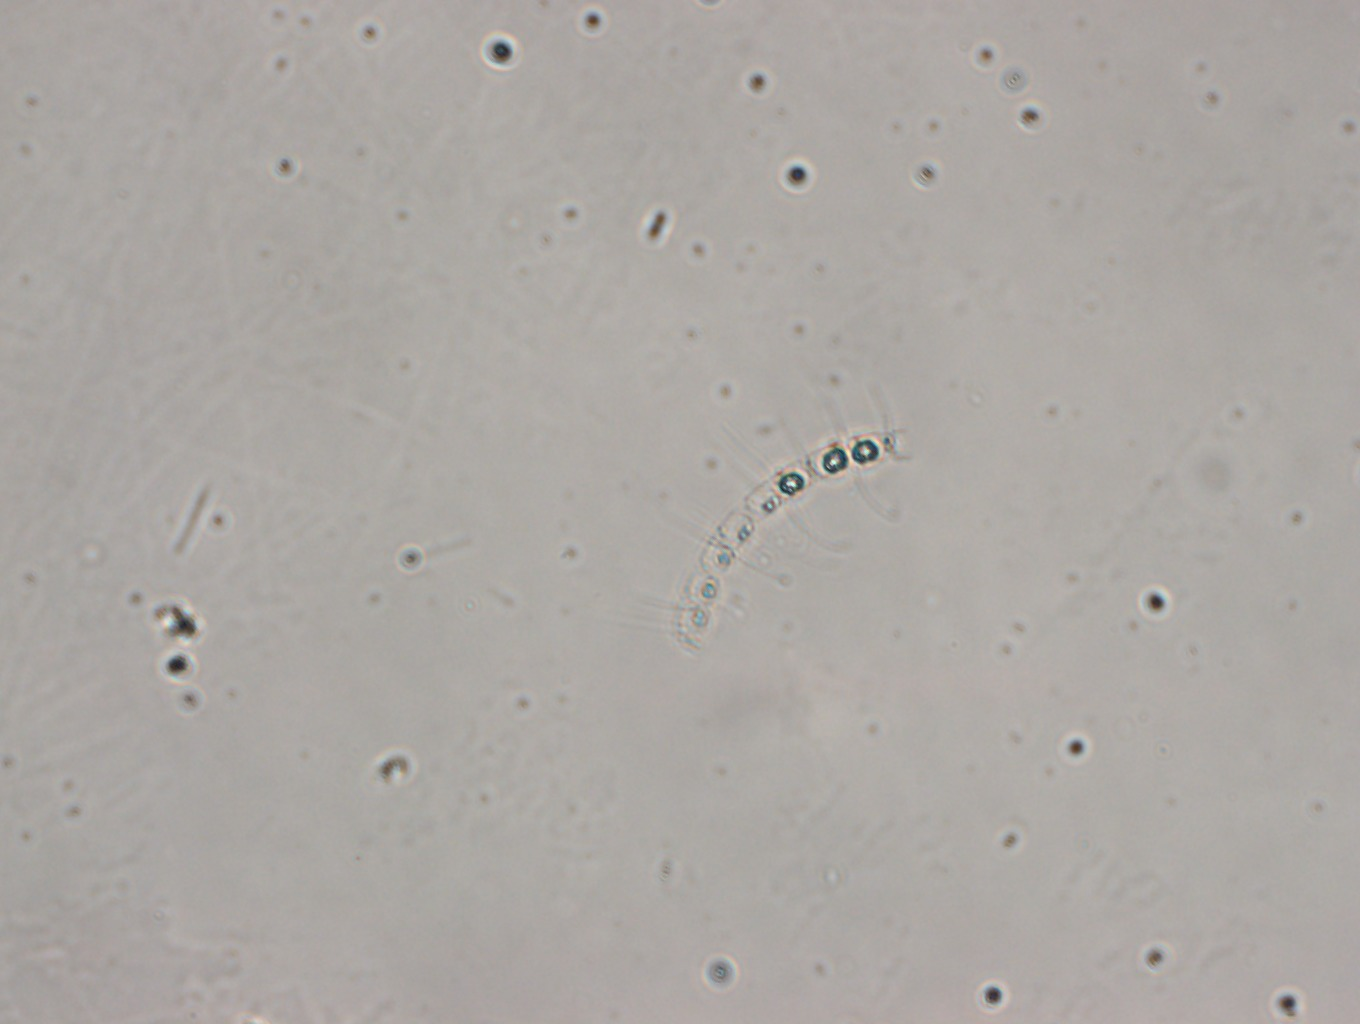chaetoceros: (622, 385, 911, 656)
